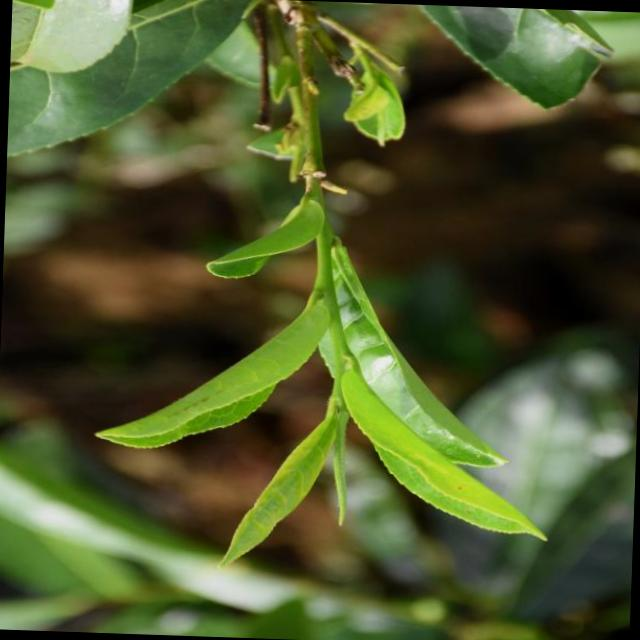Stem: (331, 341, 346, 361)
